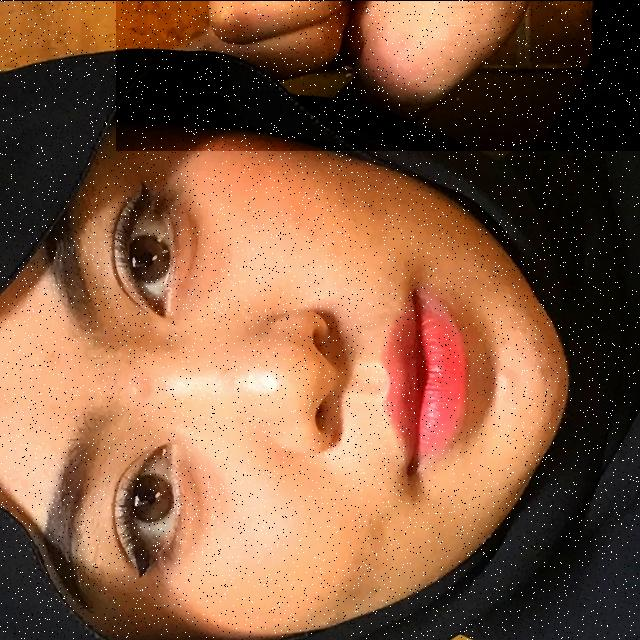ibu: (116, 0, 640, 150)
